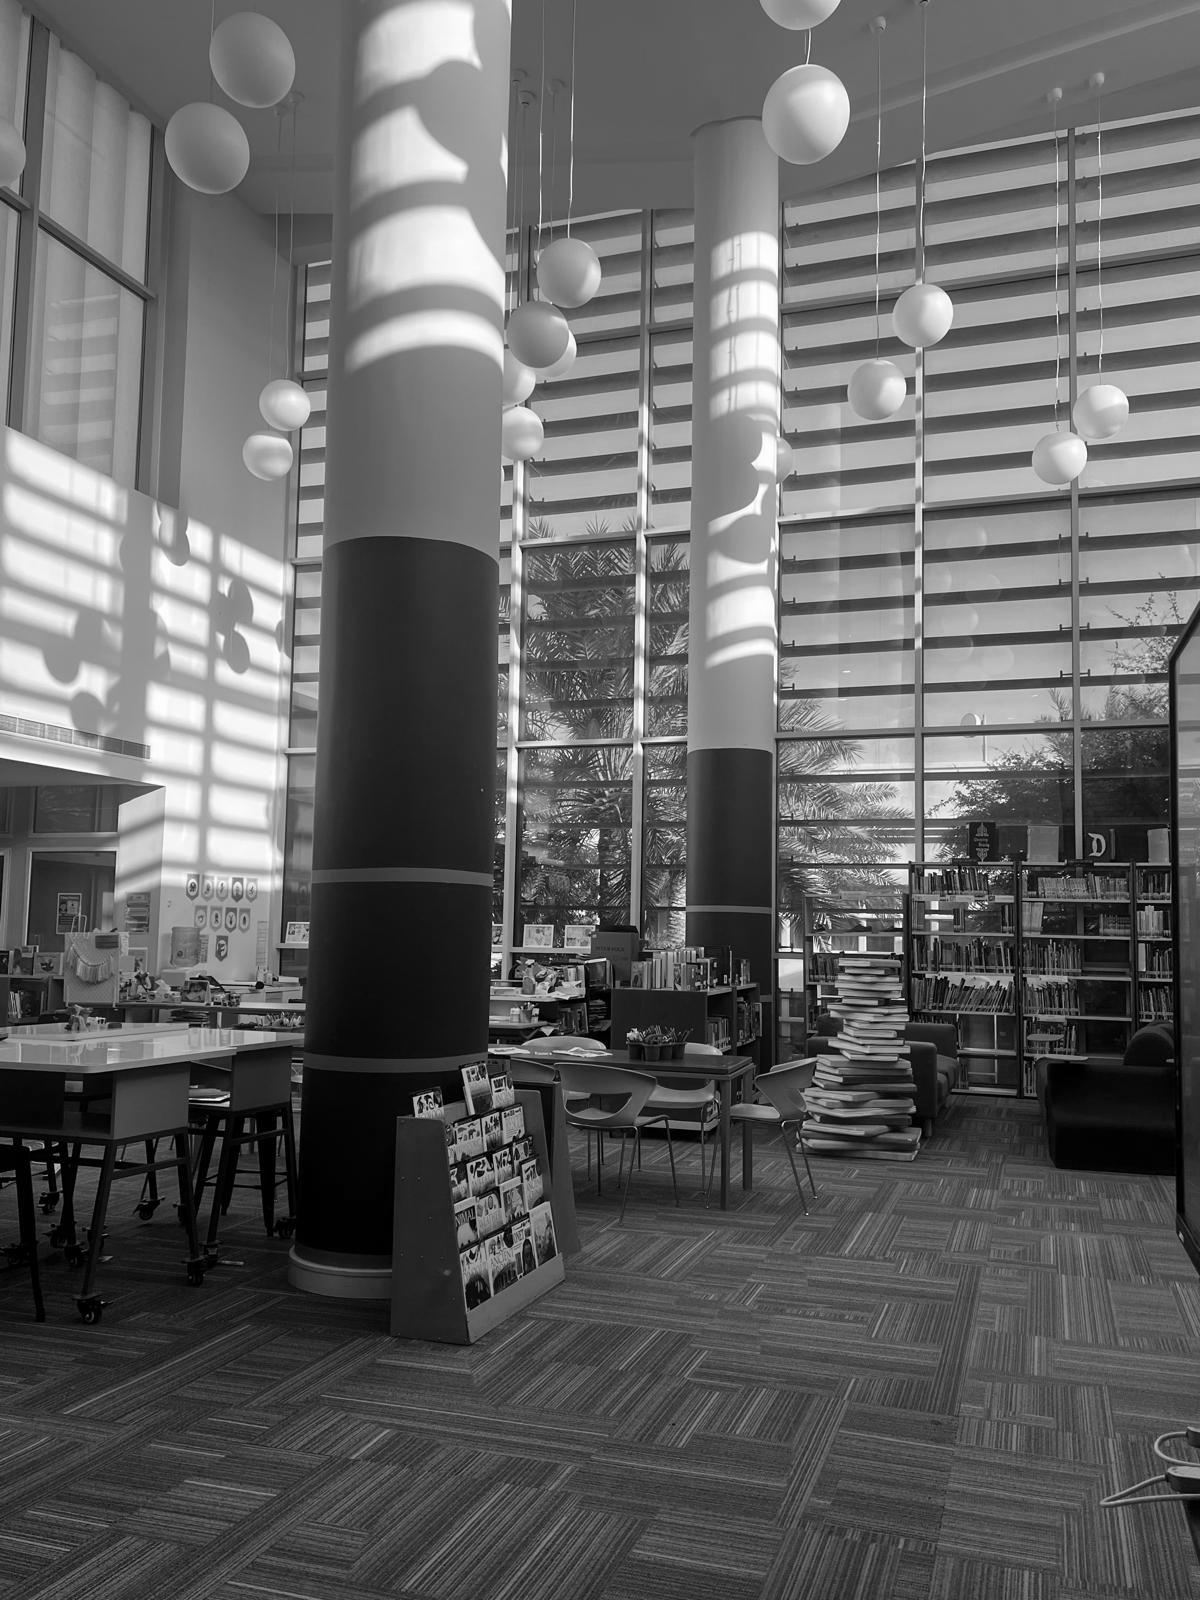Chair: (732, 1058, 816, 1213), (558, 1063, 664, 1144), (0, 1144, 44, 1322), (647, 1080, 718, 1186), (524, 1036, 604, 1052), (511, 1058, 555, 1086), (684, 1043, 720, 1054)
Couch: (1042, 1031, 1174, 1172), (904, 1022, 957, 1120), (807, 1015, 838, 1052)
Pillar: (289, 0, 511, 1295), (688, 120, 778, 959)
Table: (0, 1024, 299, 1324), (595, 1052, 753, 1107), (718, 1119, 729, 1206), (650, 1089, 686, 1112)
Tv: (1171, 609, 1199, 1260)
Wall: (0, 199, 289, 957)
